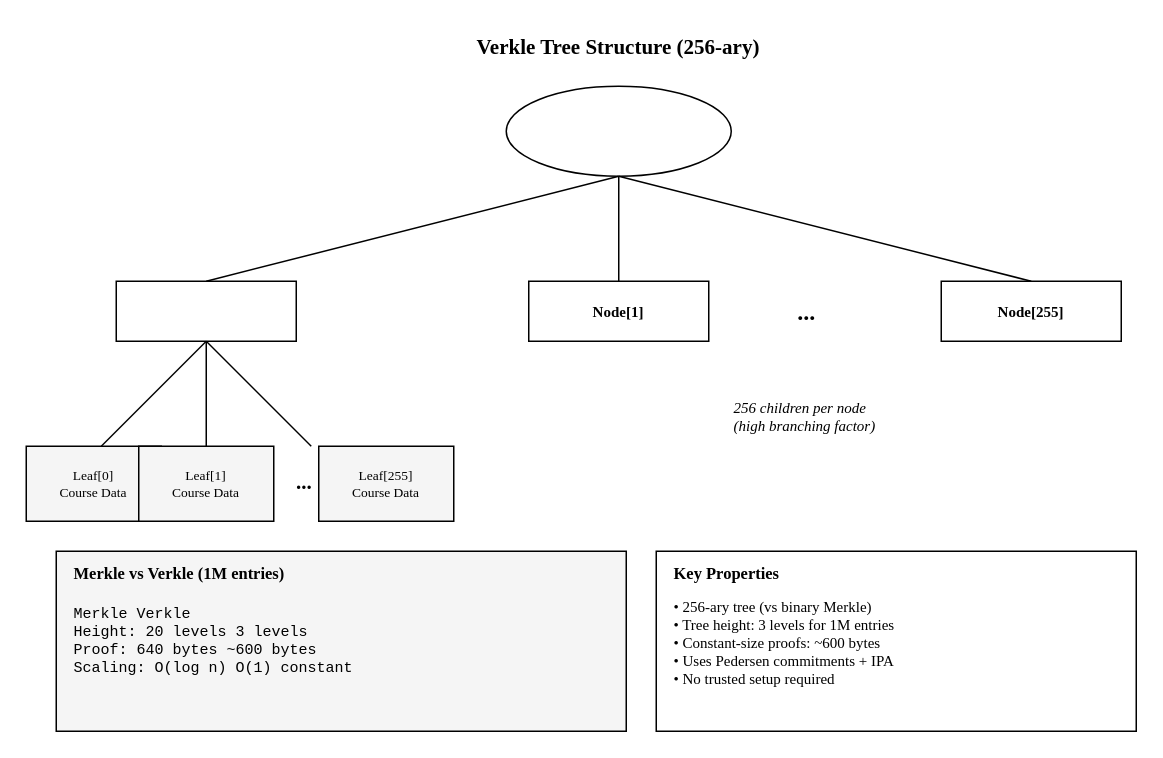
The diagram is 1163 pixels wide and 758 high, and some of its shapes have lost their labels. The centre of each missing label's shape, as x and y in pixels:
"Node[0]" goes at (205,310).
"Root (32-byte commitment)" goes at (618,130).
